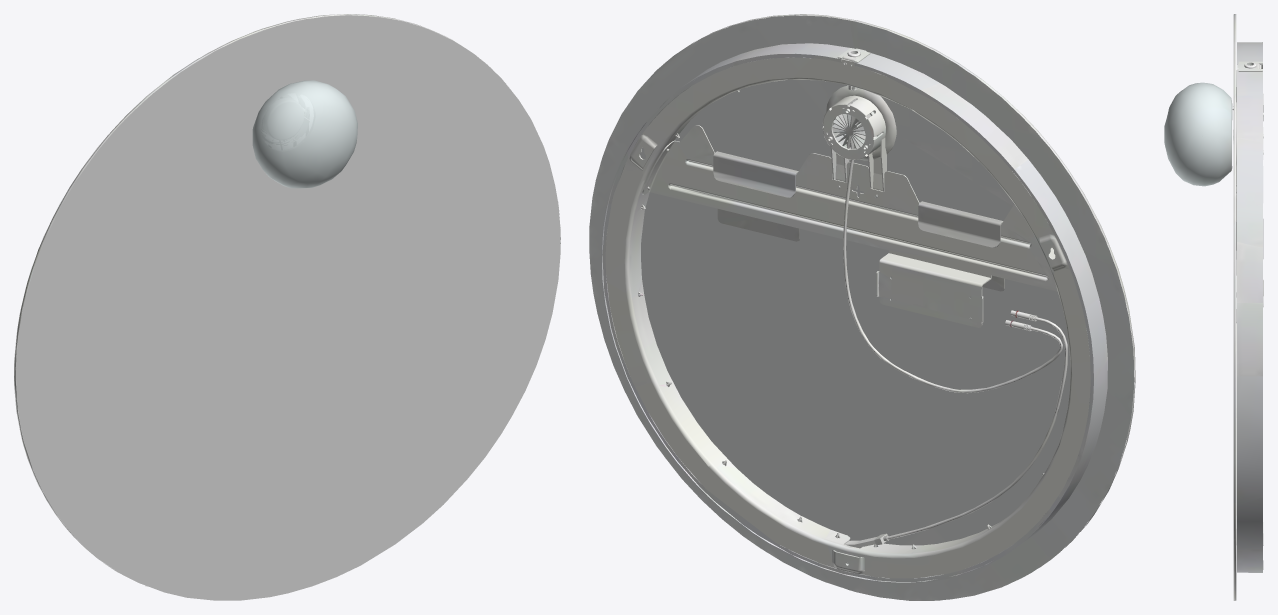
File: faxalven_lustro_z_wbudowanym_oswietleniem_29516705.glb
The picture shows the model from 3 angles, left to right: view 1: azimuth 30°, elevation 25°; view 2: azimuth 150°, elevation 25°; view 3: azimuth 270°, elevation 25°; orthographic projection. The views are drawn at different scales.
Visible parts, largest first — view 1: faxalven_lustro_z_wbudowanym_oswietleniem_29516705; view 2: faxalven_lustro_z_wbudowanym_oswietleniem_29516705; view 3: faxalven_lustro_z_wbudowanym_oswietleniem_29516705.
Part boxes in pixels (bbox=[...]): faxalven_lustro_z_wbudowanym_oswietleniem_29516705: bbox=[14, 14, 560, 600]; faxalven_lustro_z_wbudowanym_oswietleniem_29516705: bbox=[589, 14, 1135, 600]; faxalven_lustro_z_wbudowanym_oswietleniem_29516705: bbox=[1164, 14, 1263, 600].
Bounding box in the file's own units: 0.8002 × 0.799 × 0.1354.
4 materials, 2 textured.
